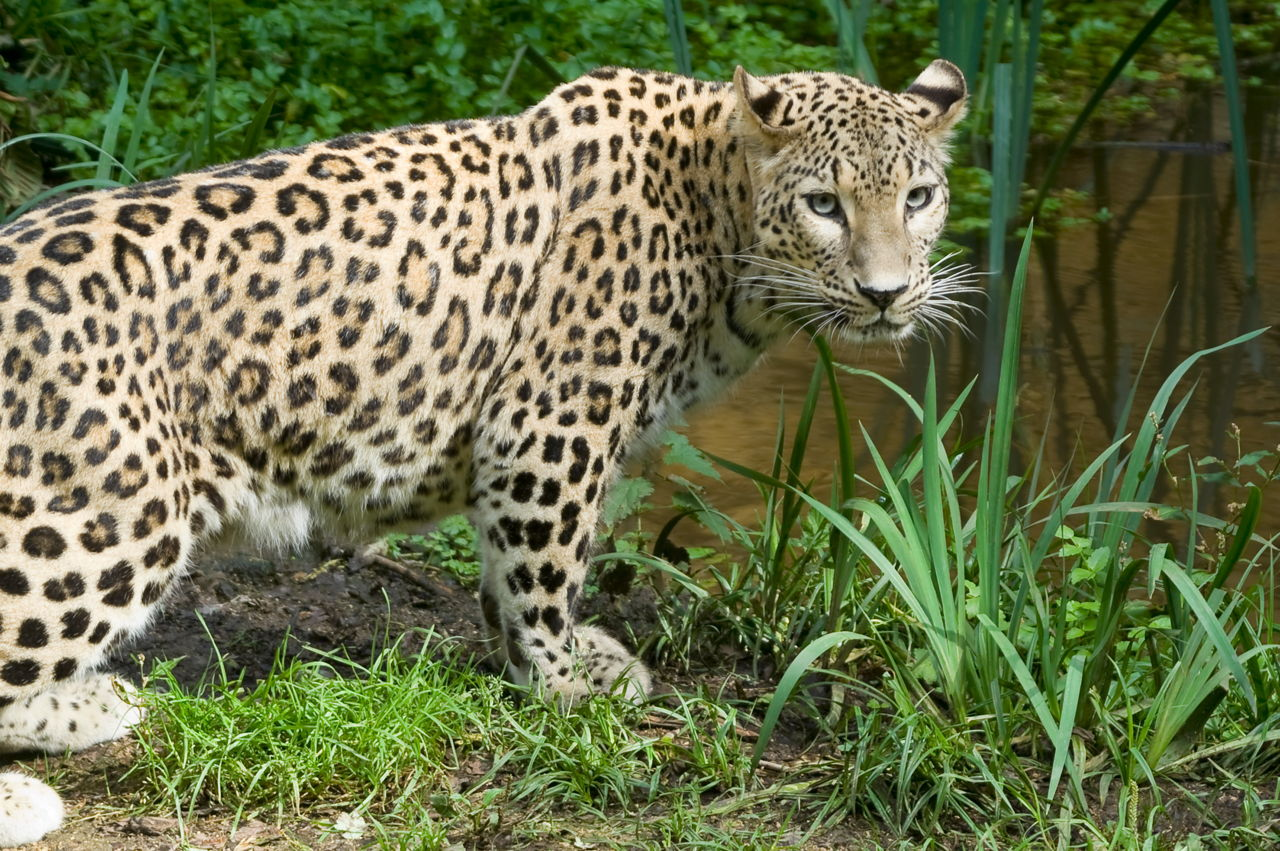amur_leopard: (46, 38, 982, 699)
